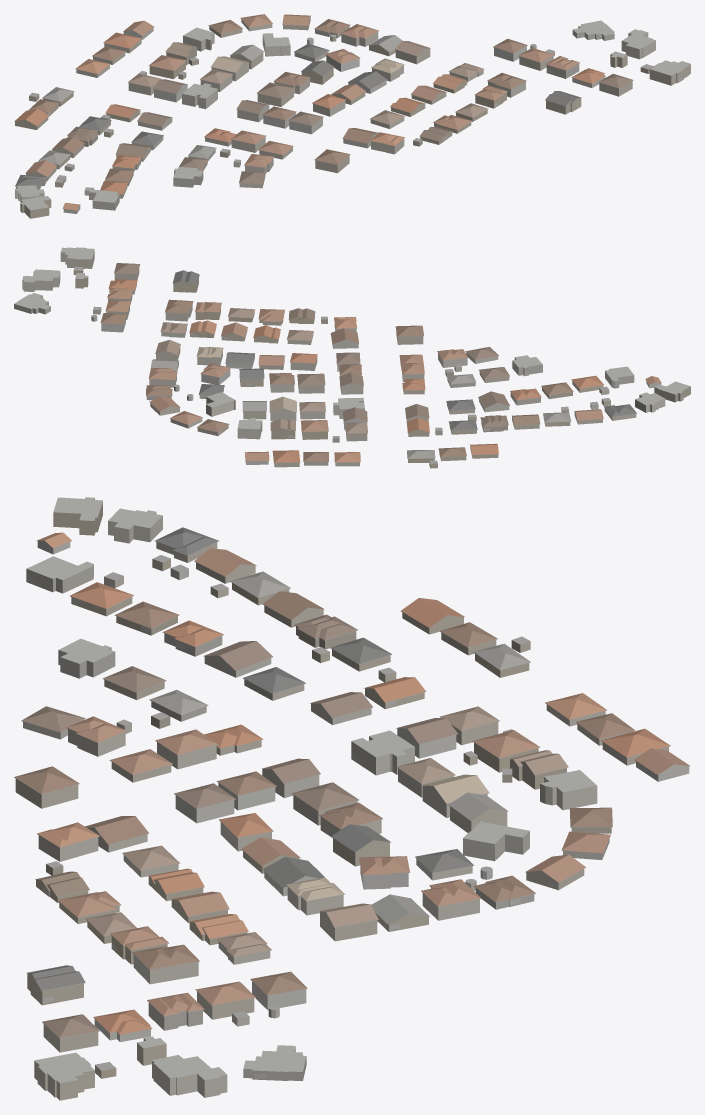
File: buildings_r0_c4.glb
3 renders of one model, top to bottom at view 1: azimuth 30°, elevation 25°; view 2: azimuth 150°, elevation 25°; view 3: azimuth 270°, elevation 25°, orthographic. The views are drawn at different scales.
Parts seen in each view (by area): view 1: buildings_r0_c4; view 2: buildings_r0_c4; view 3: buildings_r0_c4.
Part boxes in pixels (x1,y1,x2,y2): buildings_r0_c4: (14, 14, 690, 218); buildings_r0_c4: (14, 247, 690, 468); buildings_r0_c4: (14, 497, 690, 1100).
Bounding box in the file's own units: 532 × 21.51 × 272.
